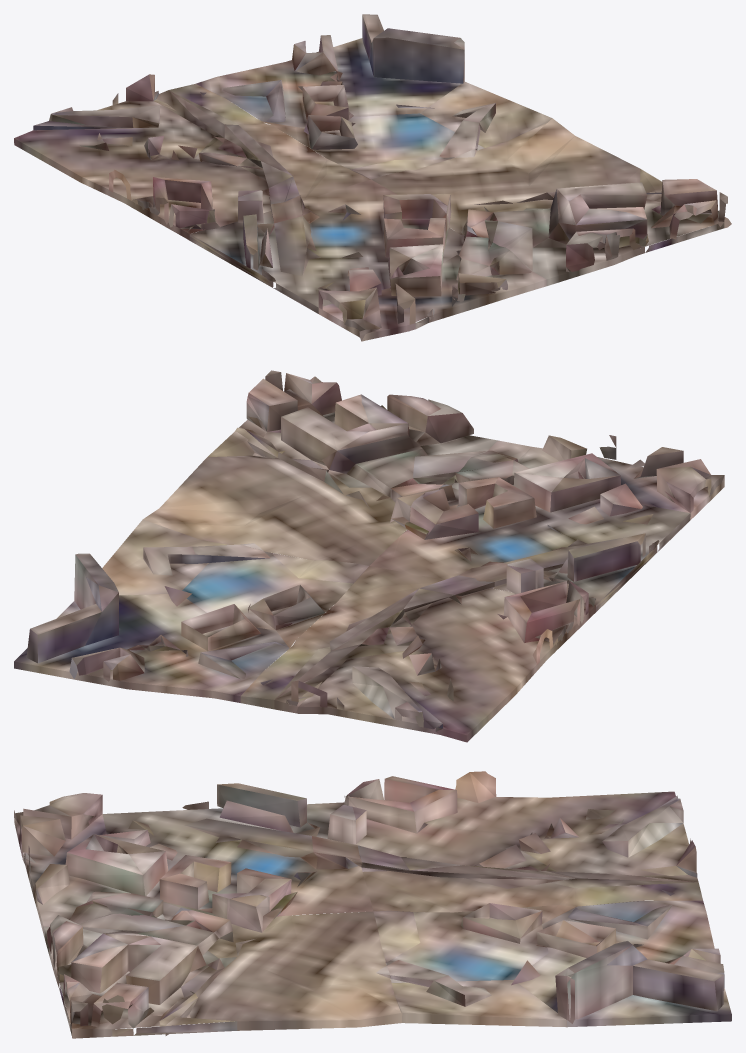
3 views of the same model, one above another, from view 1: azimuth 30°, elevation 25°; view 2: azimuth 150°, elevation 25°; view 3: azimuth 270°, elevation 25° (orthographic). The views are drawn at different scales.
Visible parts, largest first — view 1: Mesh_0; view 2: Mesh_0; view 3: Mesh_0.
Part boxes in pixels (x1,y1,x2,y2): Mesh_0: (14,14,731,341); Mesh_0: (14,370,724,742); Mesh_0: (14,771,731,1038).
Size of the model in its own units: 538 by 59.38 by 660.
1 material, 1 textured.
